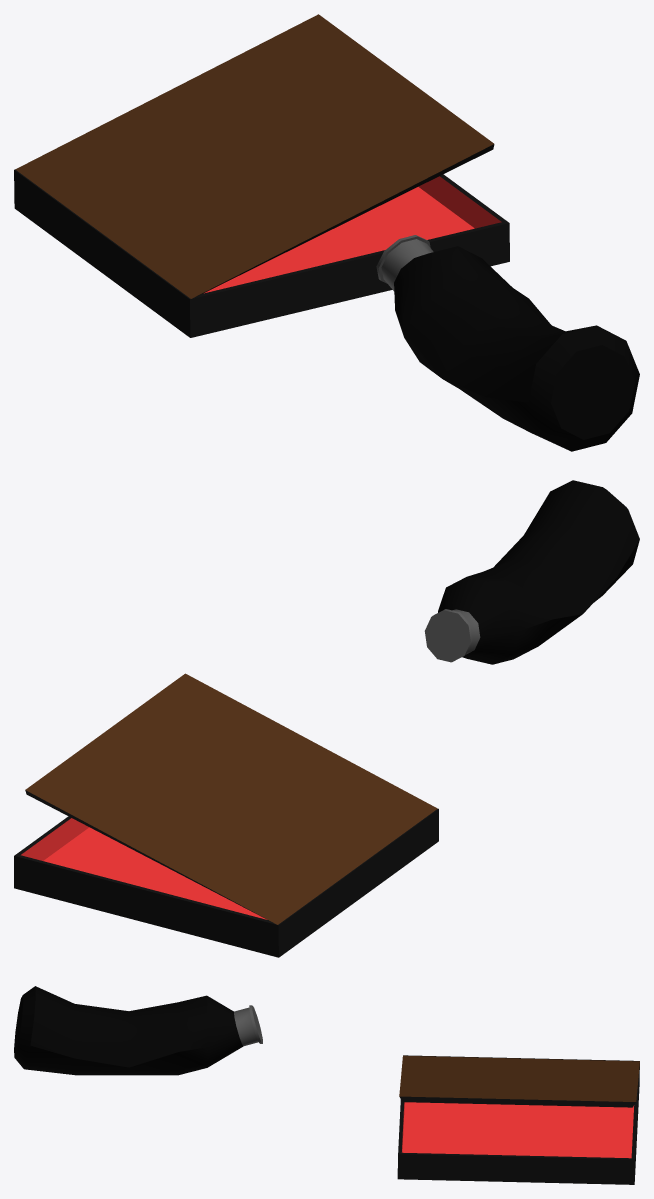
File: Trash.fbx
3 renders of one model, top to bottom at view 1: azimuth 30°, elevation 25°; view 2: azimuth 150°, elevation 25°; view 3: azimuth 270°, elevation 25°, orthographic. The views are drawn at different scales.
Visible parts, largest first — view 1: trashes.001, trashes.013; view 2: trashes.001, trashes.013; view 3: trashes.001, trashes.013.
Boxes of the visible parts, x1=… form: trashes.001: x1=14, y1=14, x2=509, y2=337; trashes.013: x1=376, y1=235, x2=639, y2=451; trashes.001: x1=14, y1=673, x2=438, y2=957; trashes.013: x1=424, y1=480, x2=639, y2=664; trashes.001: x1=397, y1=1055, x2=639, y2=1184; trashes.013: x1=14, y1=986, x2=262, y2=1075.
Size of the model in its own units: 18.44 by 10.62 by 47.67.
